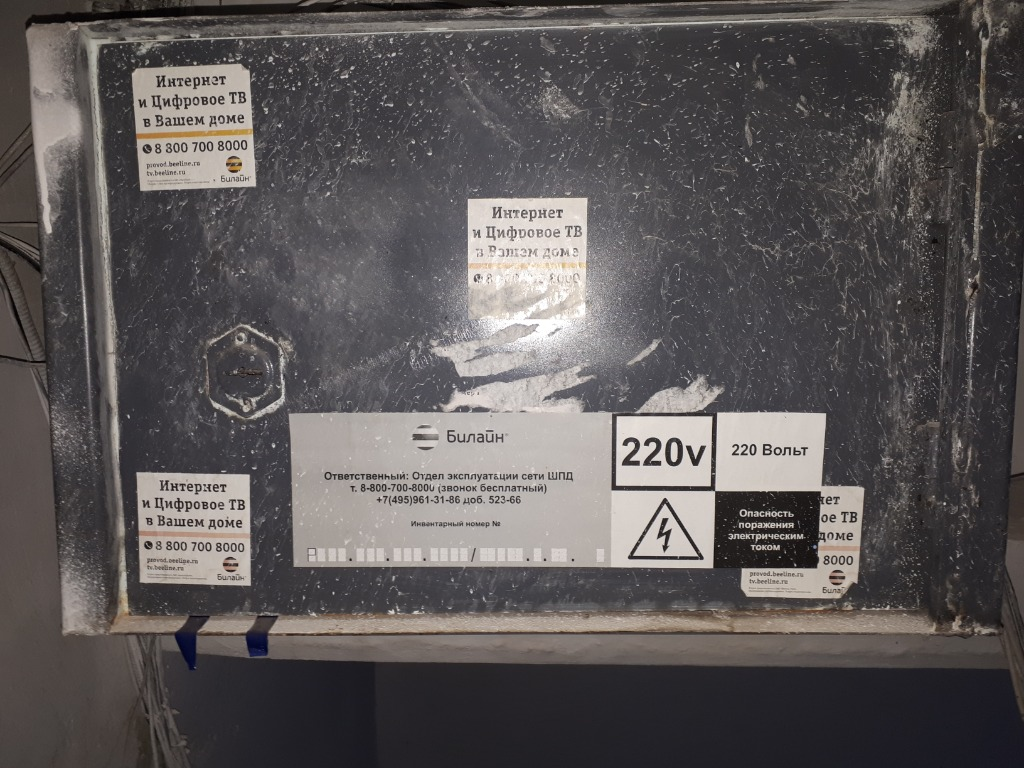e2-6u: (18, 14, 1018, 641)
